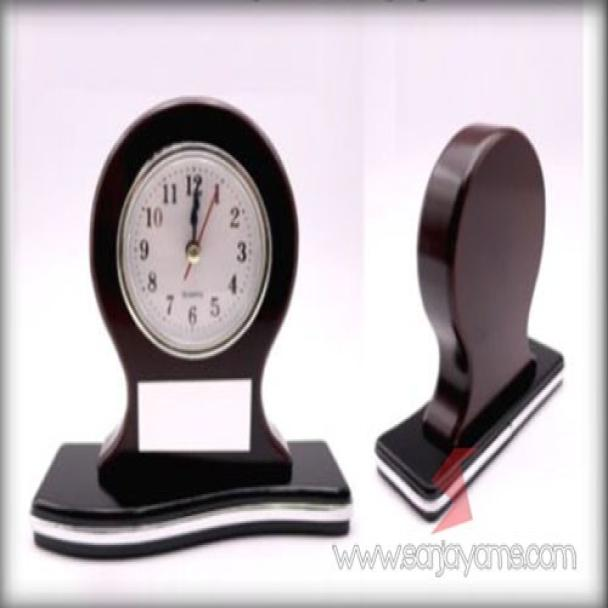Jam: (102, 129, 281, 369)
